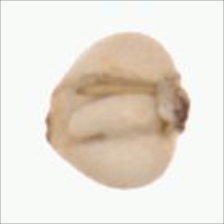L5: (45, 77, 164, 149), (156, 66, 192, 145)
L6: (41, 30, 193, 192)
